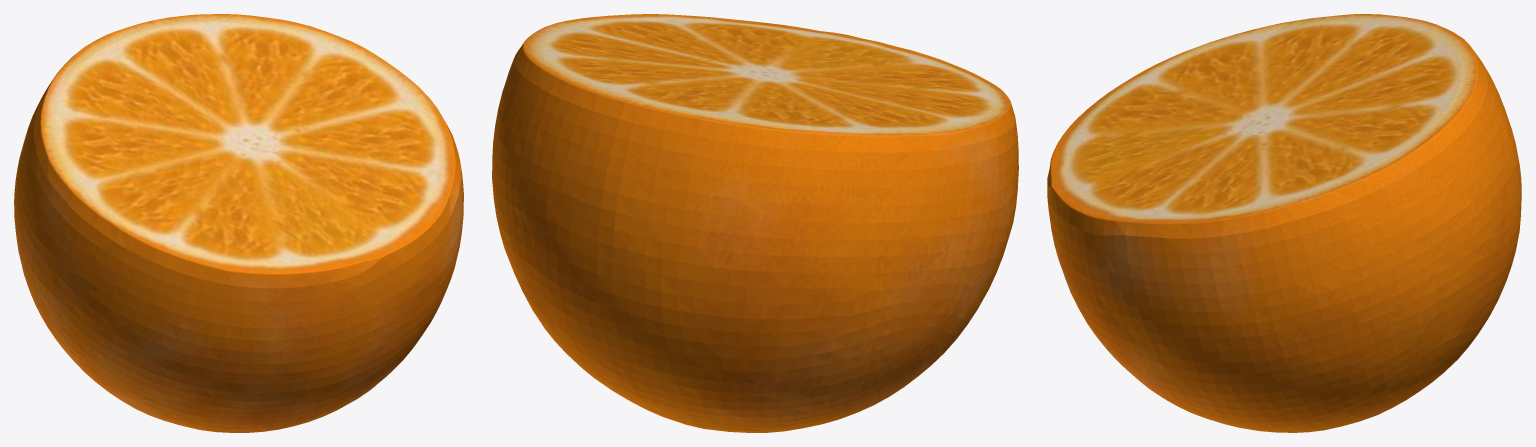
3 views of the same model, side by side, from view 1: azimuth 30°, elevation 25°; view 2: azimuth 150°, elevation 25°; view 3: azimuth 270°, elevation 25° (orthographic). The views are drawn at different scales.
Parts seen in each view (by area): view 1: part_00; view 2: part_00; view 3: part_00.
Part boxes in pixels (left/top/right/bottom): part_00: left=14, top=14, right=463, bottom=432; part_00: left=492, top=14, right=1018, bottom=432; part_00: left=1047, top=14, right=1521, bottom=432.
Bounding box in the file's own units: 0.0997 × 0.0793 × 0.1.
Materials: 1 (1 with a texture image).
